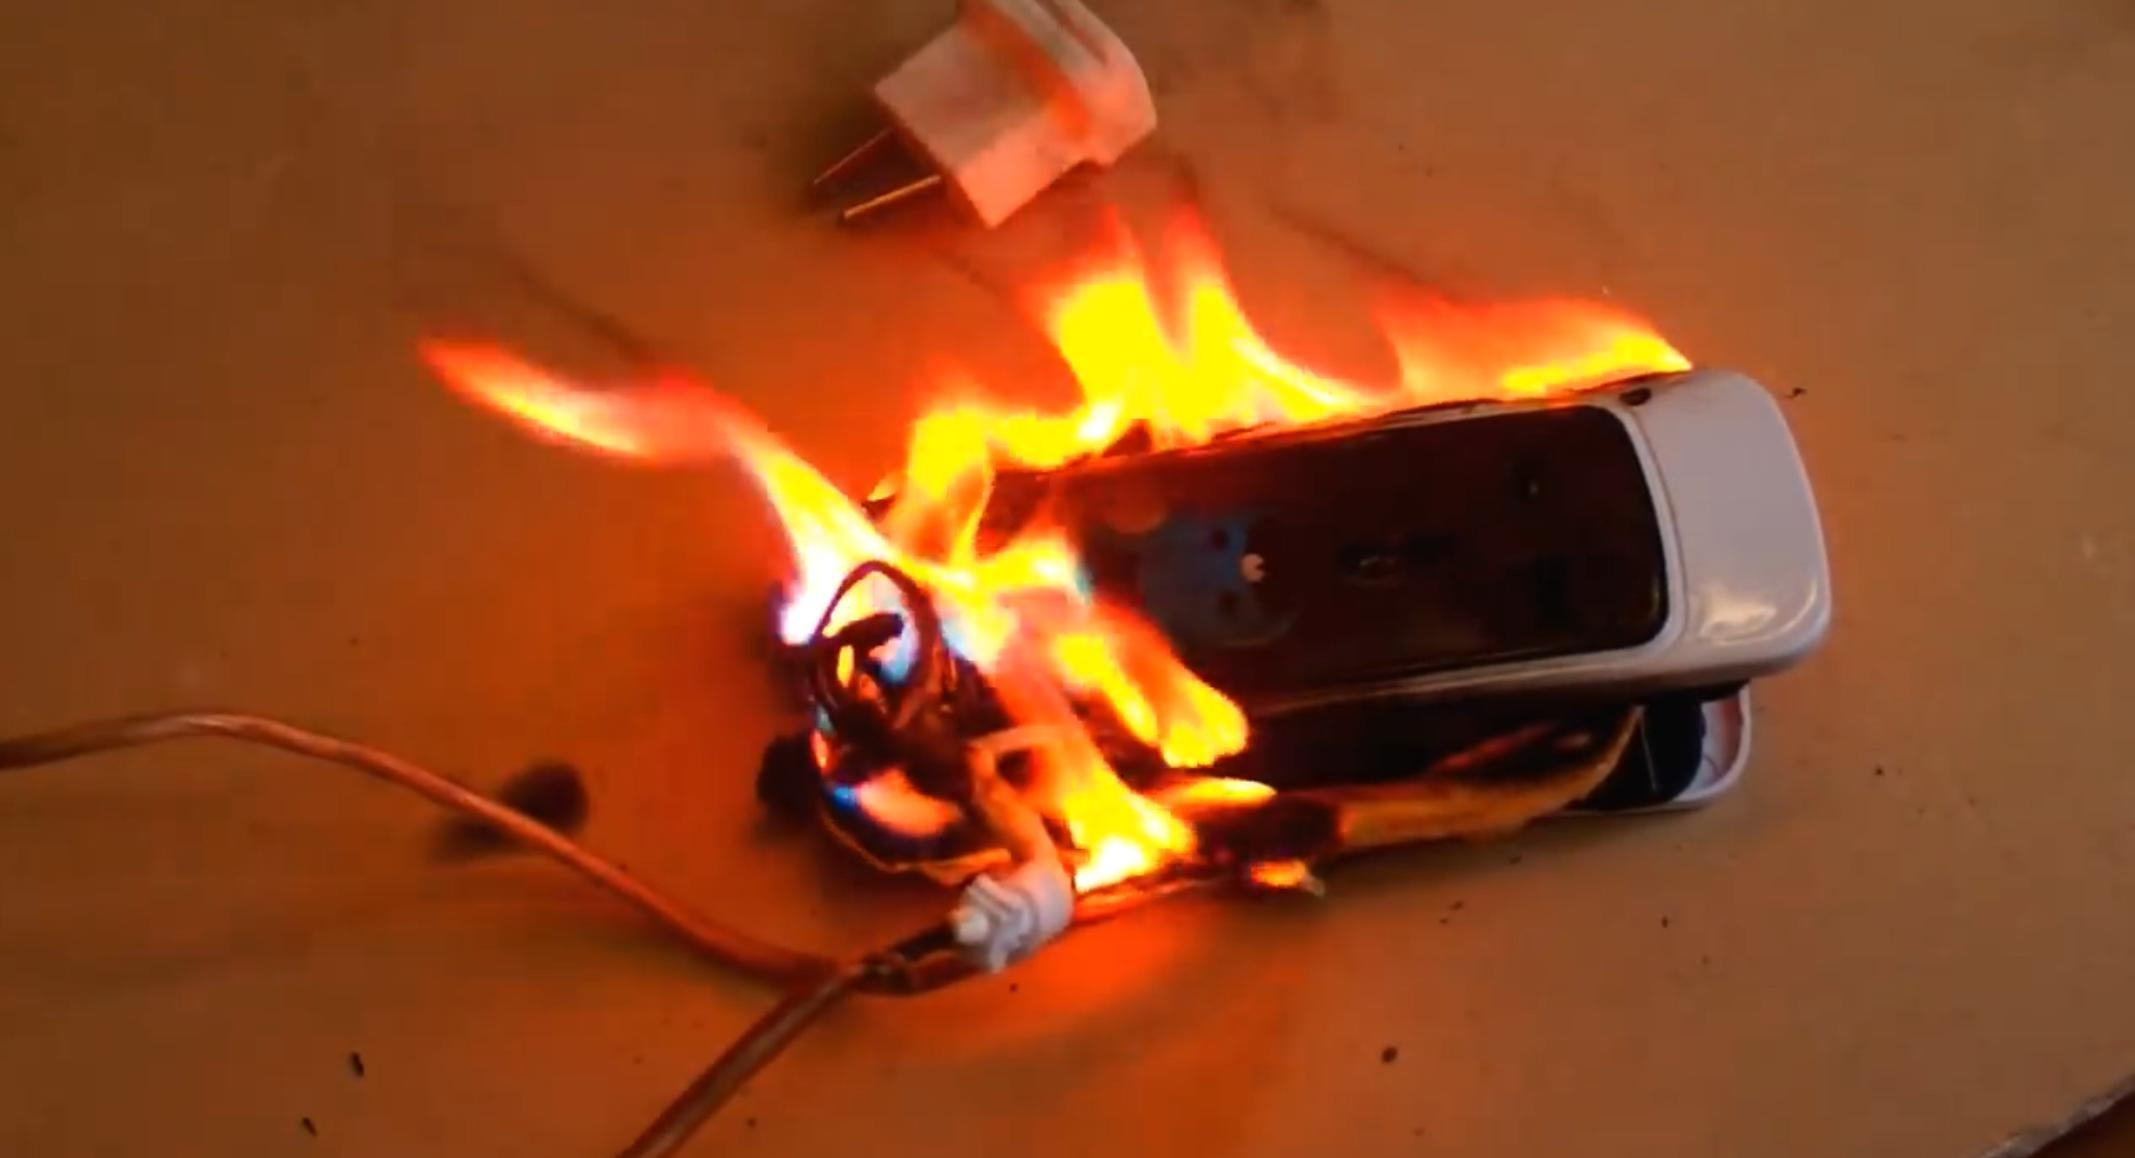fire: (631, 382, 1286, 891), (420, 332, 667, 469)
